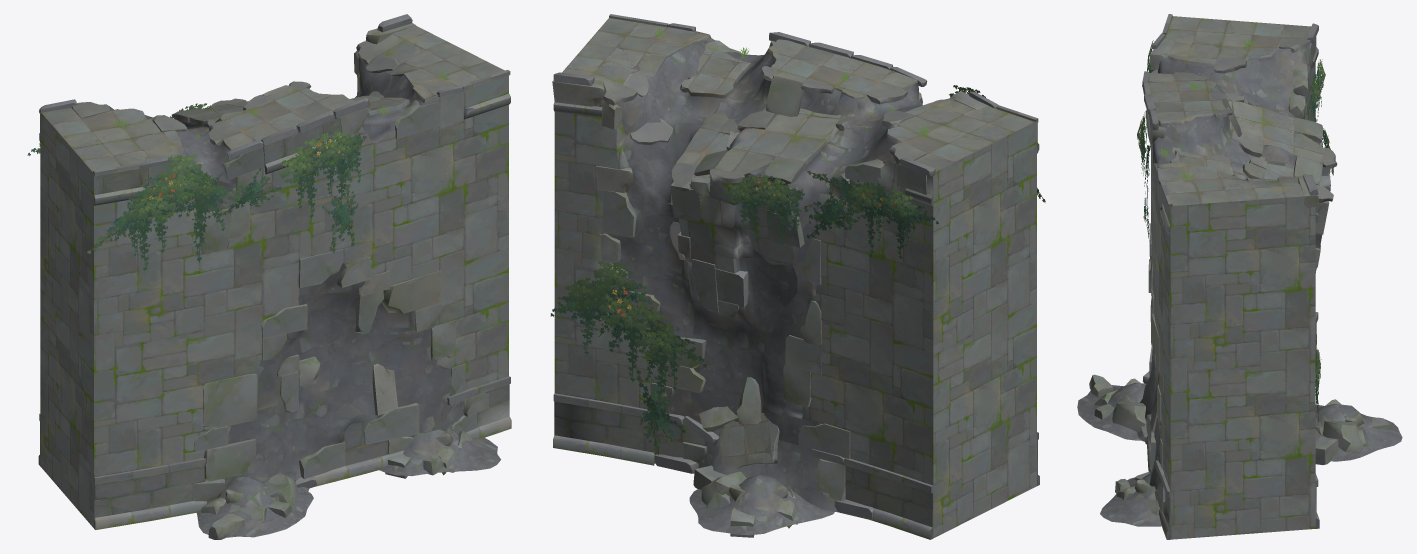
File: Area_MdBuild_SdWall02_23_Group.fbx
The picture shows the model from 3 angles, left to right: view 1: azimuth 30°, elevation 25°; view 2: azimuth 150°, elevation 25°; view 3: azimuth 270°, elevation 25°; orthographic projection. The views are drawn at different scales.
Parts seen in each view (by area): view 1: Area_MdBuild_SdWall02_23_Lod0, Stages_LYLvy05_Vo (1), Area_MdBuild_SdRuins07_08_Vo.002, Area_MdBuild_SdRuins07_08_Vo.001, Stages_LYLvy08_Vo (1), Stages_LYLvy09_Vo (4), Stages_LYLvy09_Vo (1); view 2: Area_MdBuild_SdWall02_23_Lod0, Stages_LYLvy06_Vo (1), Area_MdBuild_SdRuins07_08_Vo, Stages_LYLvy03_Vo (1), Stages_LYLvy08_Vo (2), Stages_LYLvy09_Vo (3), Stages_LYLvy09_Vo (2); view 3: Area_MdBuild_SdWall02_23_Lod0, Area_MdBuild_SdRuins07_08_Vo, Area_MdBuild_SdRuins07_08_Vo.001, Area_MdBuild_SdRuins07_08_Vo.002, Stages_LYLvy03_Vo (1), Stages_LYLvy08_Vo (1).
Part boxes in pixels (x1,y1,x2,y2): Area_MdBuild_SdWall02_23_Lod0: (38,14,511,539); Stages_LYLvy05_Vo (1): (86,154,228,270); Area_MdBuild_SdRuins07_08_Vo.002: (196,477,313,537); Area_MdBuild_SdRuins07_08_Vo.001: (379,427,500,478); Stages_LYLvy08_Vo (1): (278,130,366,218); Stages_LYLvy09_Vo (4): (322,184,358,252); Stages_LYLvy09_Vo (1): (217,168,281,216); Area_MdBuild_SdWall02_23_Lod0: (552,14,1039,539); Stages_LYLvy06_Vo (1): (550,261,706,405); Area_MdBuild_SdRuins07_08_Vo: (689,473,834,537); Stages_LYLvy03_Vo (1): (807,170,938,259); Stages_LYLvy08_Vo (2): (724,174,804,244); Stages_LYLvy09_Vo (3): (636,369,685,454); Stages_LYLvy09_Vo (2): (804,186,865,238); Area_MdBuild_SdWall02_23_Lod0: (1089,14,1363,539); Area_MdBuild_SdRuins07_08_Vo: (1315,399,1402,461); Area_MdBuild_SdRuins07_08_Vo.001: (1100,471,1161,526); Area_MdBuild_SdRuins07_08_Vo.002: (1077,378,1145,440); Stages_LYLvy03_Vo (1): (1305,59,1325,121); Stages_LYLvy08_Vo (1): (1137,112,1150,187).
Bounding box in the file's own units: 25.19 × 21.61 × 17.68.
Materials: 8 (8 with a texture image).
